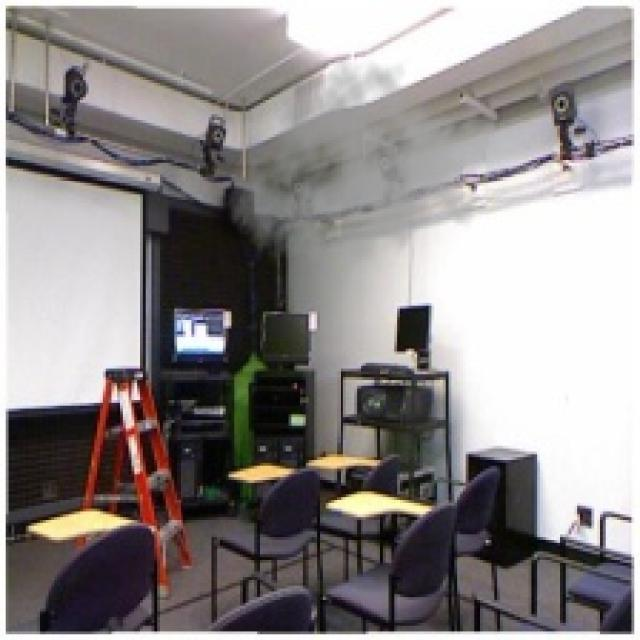Smoke: (226, 52, 497, 288)
